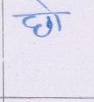o_matra: (36, 0, 67, 30)
